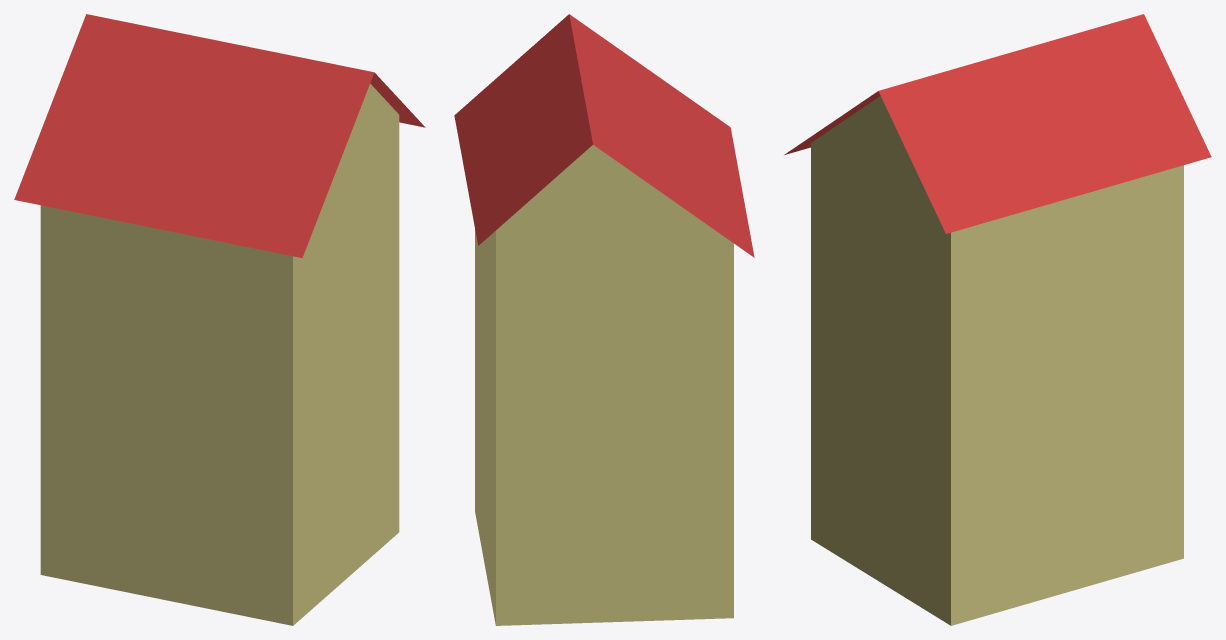
3 renders of one model, left to right at view 1: azimuth 30°, elevation 25°; view 2: azimuth 150°, elevation 25°; view 3: azimuth 270°, elevation 25°, orthographic. The views are drawn at different scales.
Size of the model in its own units: 5.27 by 5.38 by 7.
